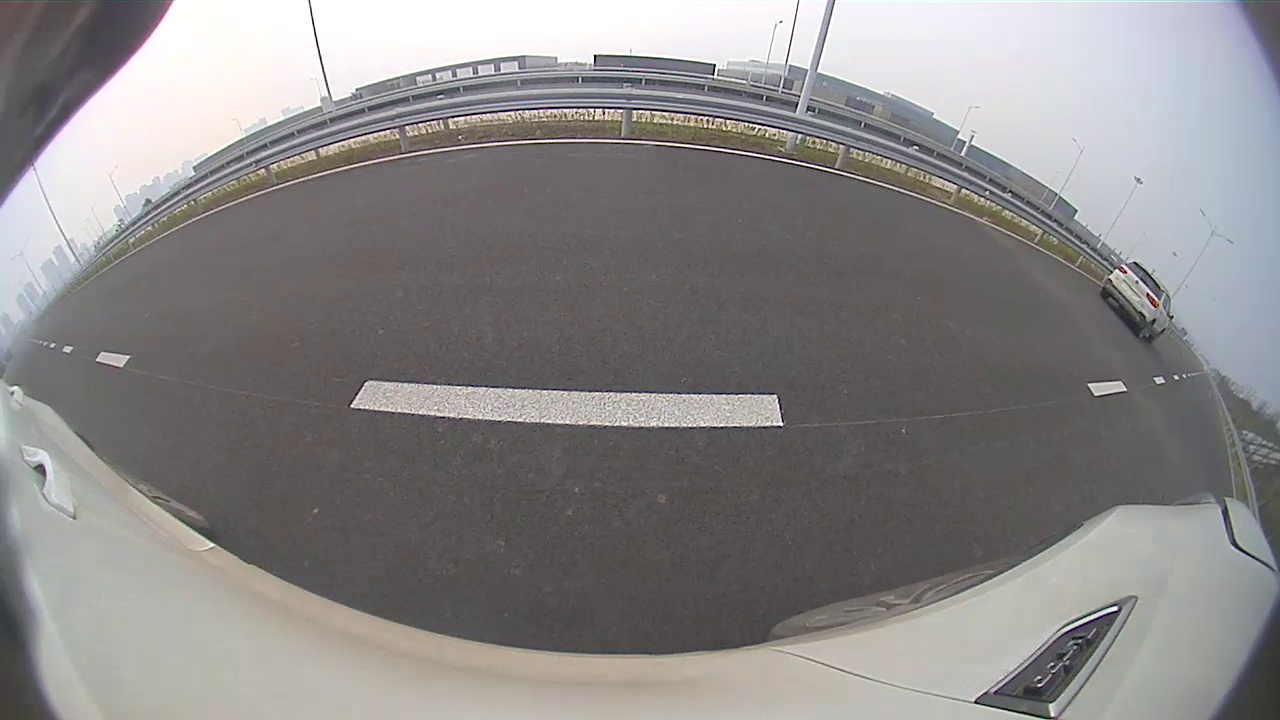car: (1101, 261, 1173, 343)
